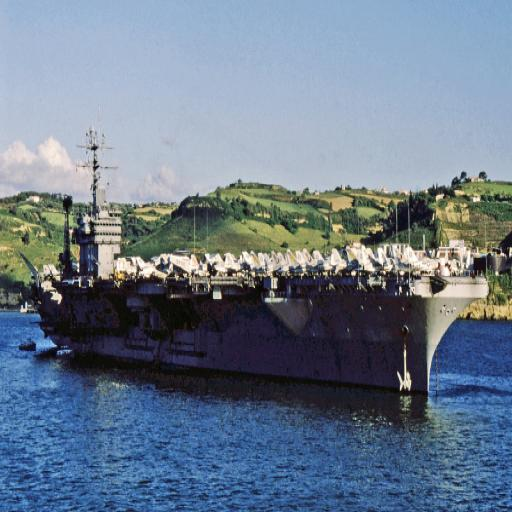Portanaves: (21, 119, 494, 402)
